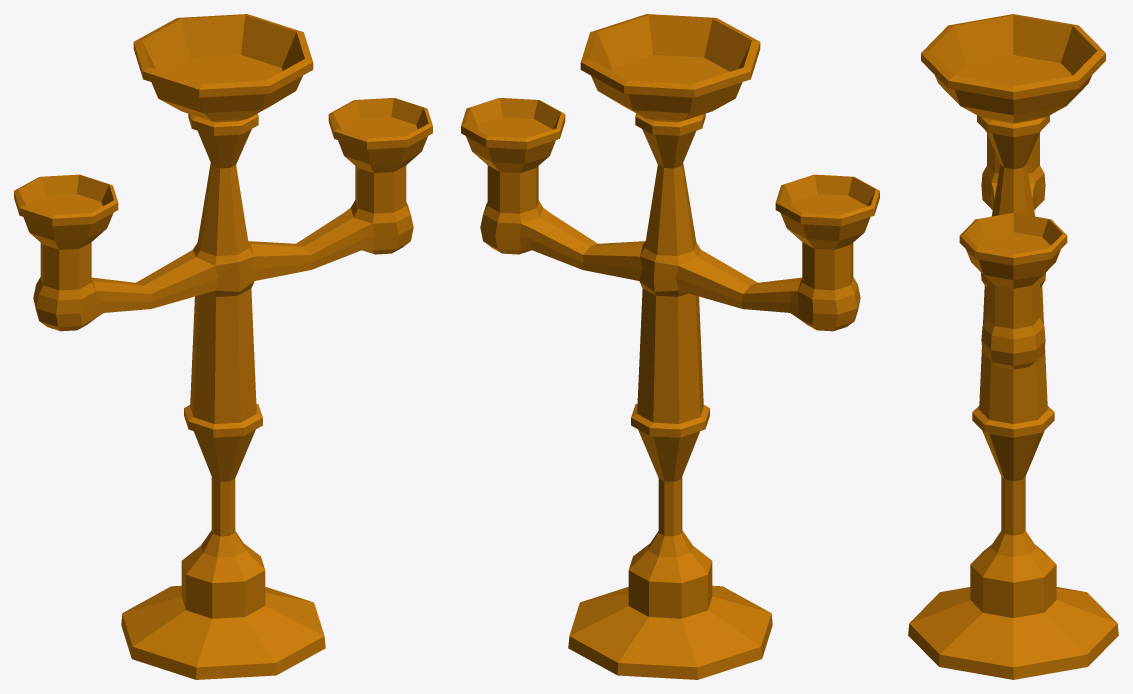
File: Castical - Ouro.fbx
3 renders of one model, left to right at view 1: azimuth 30°, elevation 25°; view 2: azimuth 150°, elevation 25°; view 3: azimuth 270°, elevation 25°, orthographic.
Parts seen in each view (by area): view 1: Castiçal; view 2: Castiçal; view 3: Castiçal.
Part boxes in pixels (bbox=[...]): Castiçal: bbox=[14, 14, 432, 679]; Castiçal: bbox=[461, 14, 879, 679]; Castiçal: bbox=[908, 14, 1118, 679].
Size of the model in its own units: 28.65 by 39.38 by 12.87.
